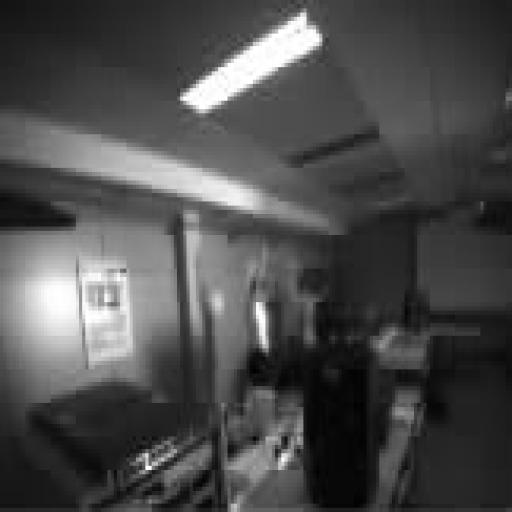human: (238, 240, 278, 391), (286, 263, 337, 358)
